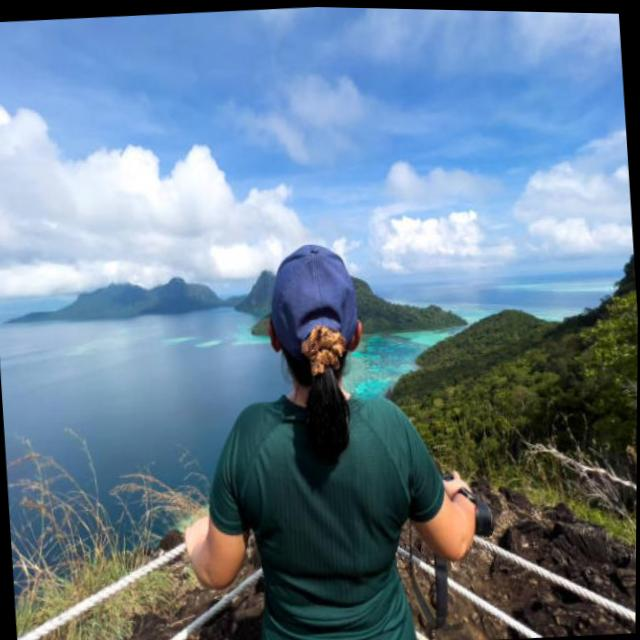no helmet: (247, 216, 384, 422)
